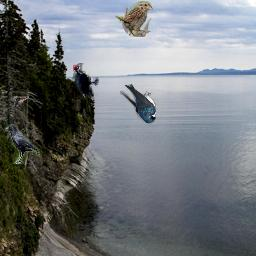Crow: (5, 124, 40, 164), (12, 96, 29, 106)
Sparrow: (115, 1, 153, 37)
Swallow: (120, 84, 156, 124)
Woodpecker: (73, 63, 99, 100)
